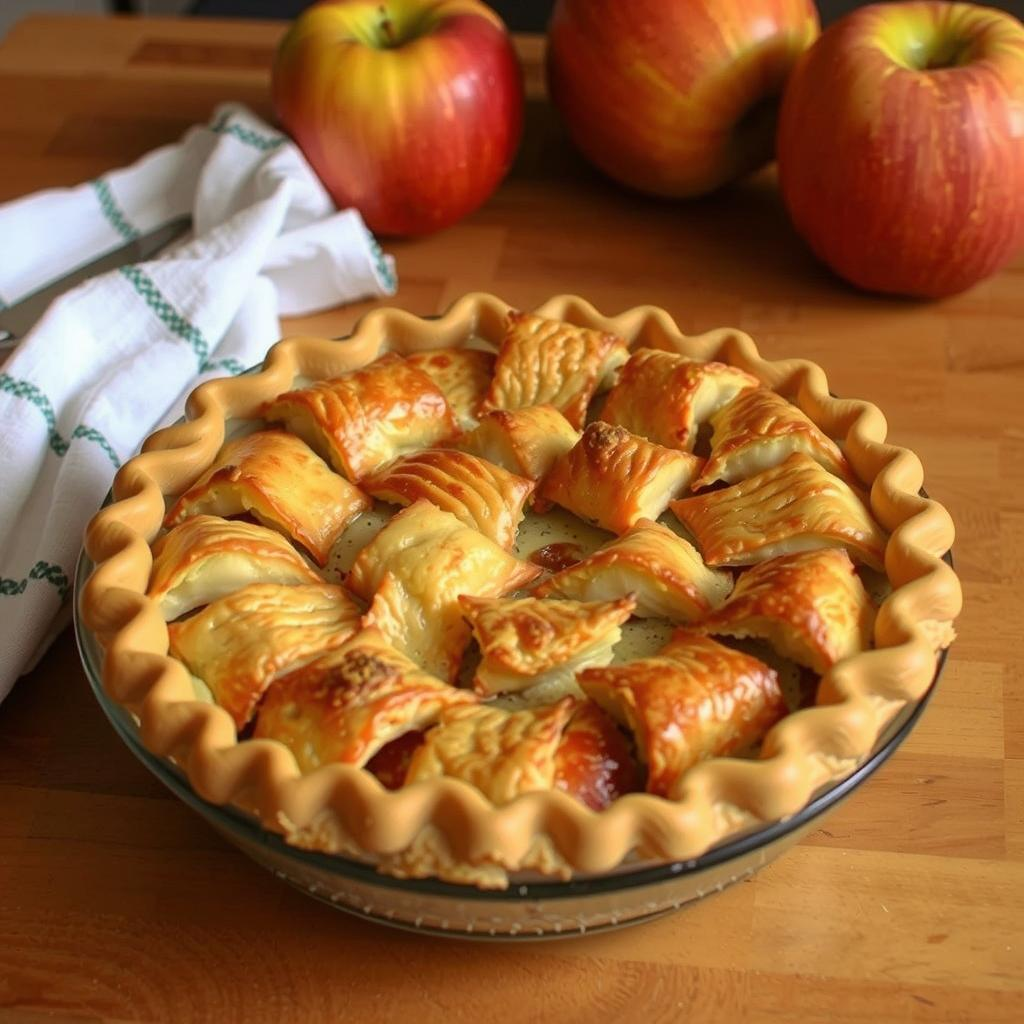pie: (70, 279, 990, 926)
